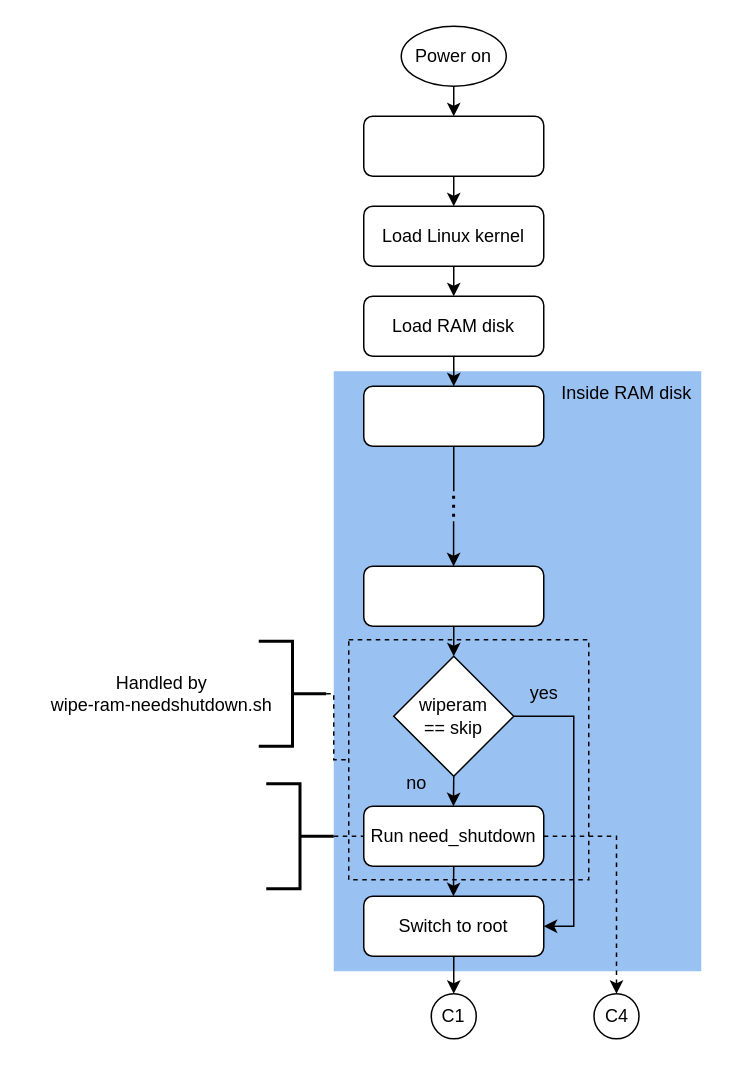
This 734x1065 diagram has some shape labels left out. Each missing label, with the centre of its shape:
"Launch init process" goes at point (453, 415).
"Load firmware/ bootloader" goes at point (453, 145).
"need_shutdown will create /run/initramfs/.need_shutdown" goes at point (161, 835).
"Start dracut cleanup hook" goes at point (453, 595).
